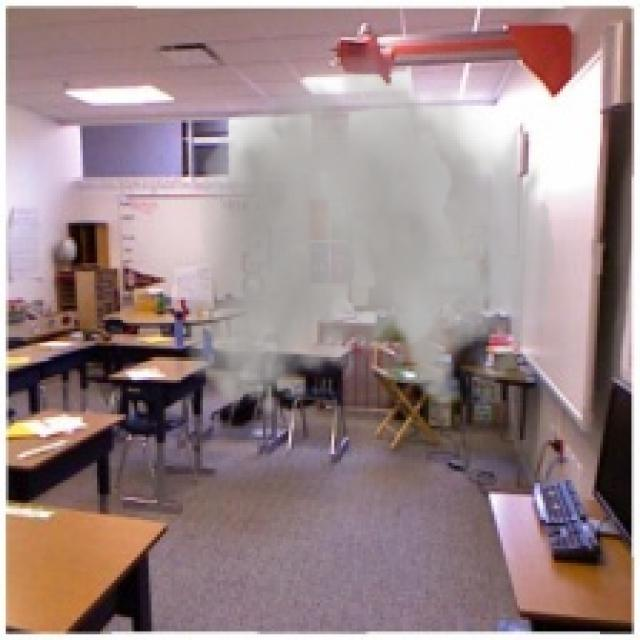smoke: (183, 32, 554, 417)
